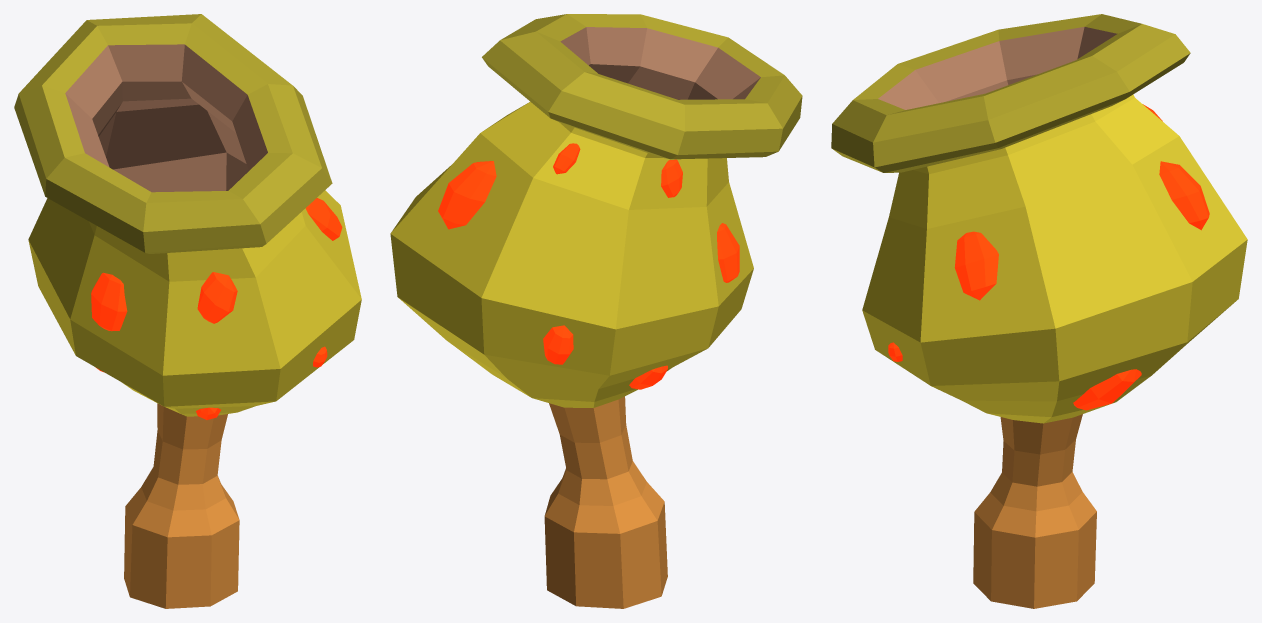
Rendered from Mushroom_02_Var_05.fbx.
3 views of the same model, side by side, from view 1: azimuth 30°, elevation 25°; view 2: azimuth 150°, elevation 25°; view 3: azimuth 270°, elevation 25° (orthographic). The views are drawn at different scales.
Visible parts, largest first — view 1: Mushroom_02_Var_05; view 2: Mushroom_02_Var_05; view 3: Mushroom_02_Var_05.
Part boxes in pixels (x1,y1,x2,y2): Mushroom_02_Var_05: (14,14,361,608); Mushroom_02_Var_05: (390,14,802,608); Mushroom_02_Var_05: (831,14,1247,608).
Size of the model in its own units: 0.7962 by 1.15 by 0.7281.
